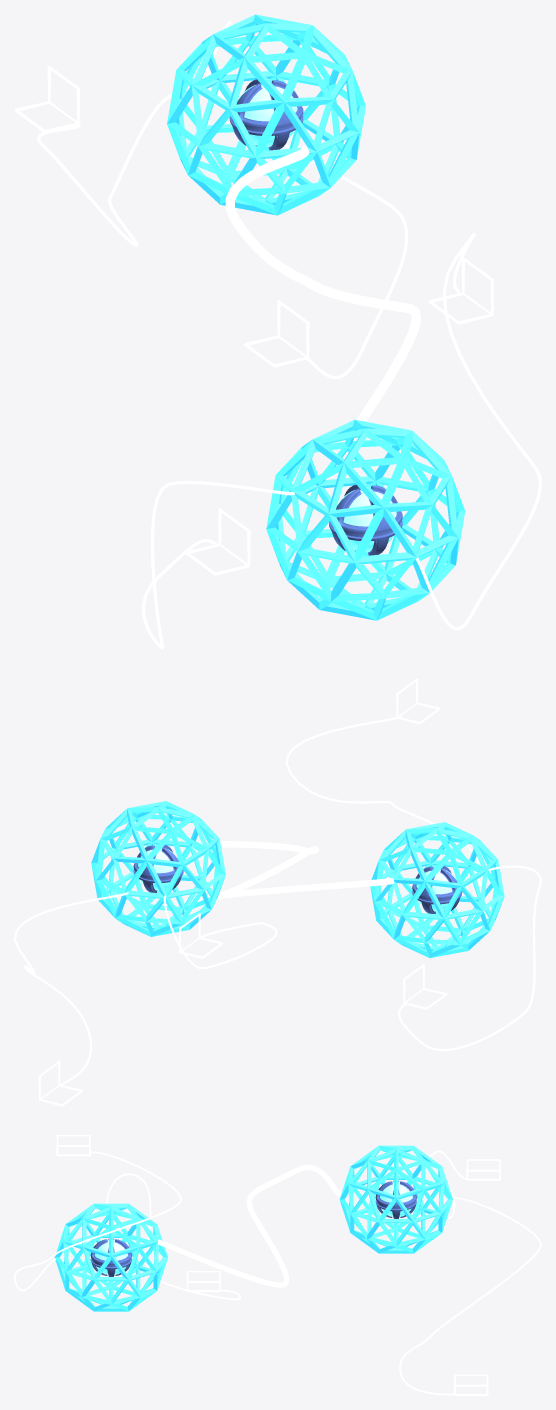
Rendered from cloud3.glb.
3 renders of one model, top to bottom at view 1: azimuth 30°, elevation 25°; view 2: azimuth 150°, elevation 25°; view 3: azimuth 270°, elevation 25°, orthographic. The views are drawn at different scales.
Parts seen in each view (by area): view 1: blueShell.001, blueShell, blueCable.005, blueCore.001, blueCore, blueCable.002, blueCable.003, blueCable, blueCable.001, laptop.017, laptop.015, laptop.016 (+1 smaller); view 2: blueShell.001, blueShell, blueCable.005, blueCore, blueCore.001, blueCable.003, blueCable.002, blueCable.001, blueCable; view 3: blueShell, blueShell.001, blueCable.005, blueCore.001, blueCore, blueCable.002, blueCable.001, blueCable.003, laptop.014.
Boxes of the visible parts, x1,y1,x2,y2 form: blueShell.001: (266,419,465,620); blueShell: (167,14,365,215); blueCable.005: (225,145,420,441); blueCore.001: (329,484,402,555); blueCore: (229,79,303,150); blueCable.002: (415,233,541,630); blueCable.003: (142,481,294,649); blueCable: (37,94,171,246); blueCable.001: (205,20,408,378); laptop.017: (184,508,250,575); laptop.015: (243,300,309,367); laptop.016: (428,257,493,324); blueShell.001: (370,822,504,957); blueShell: (91,801,225,936); blueCable.005: (192,841,393,902); blueCore: (133,845,183,892); blueCore.001: (412,866,462,913); blueCable.003: (398,865,541,1050); blueCable.002: (285,715,482,886); blueCable.001: (14,892,128,1085); blueCable: (163,895,277,969); blueShell: (339,1145,452,1253); blueShell.001: (54,1203,167,1311); blueCable.005: (157,1164,345,1287); blueCore.001: (90,1238,131,1276); blueCore: (375,1181,416,1218); blueCable.002: (14,1151,181,1291); blueCable.001: (399,1197,541,1395); blueCable.003: (106,1173,240,1300); laptop.014: (466,1159,500,1180).
Size of the model in its own units: 18.08 by 13.95 by 29.44.
